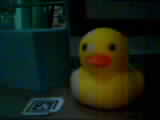duck: (64, 30, 133, 107)
